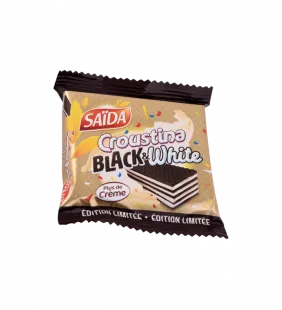CROUSTINA: (43, 65, 237, 245)
